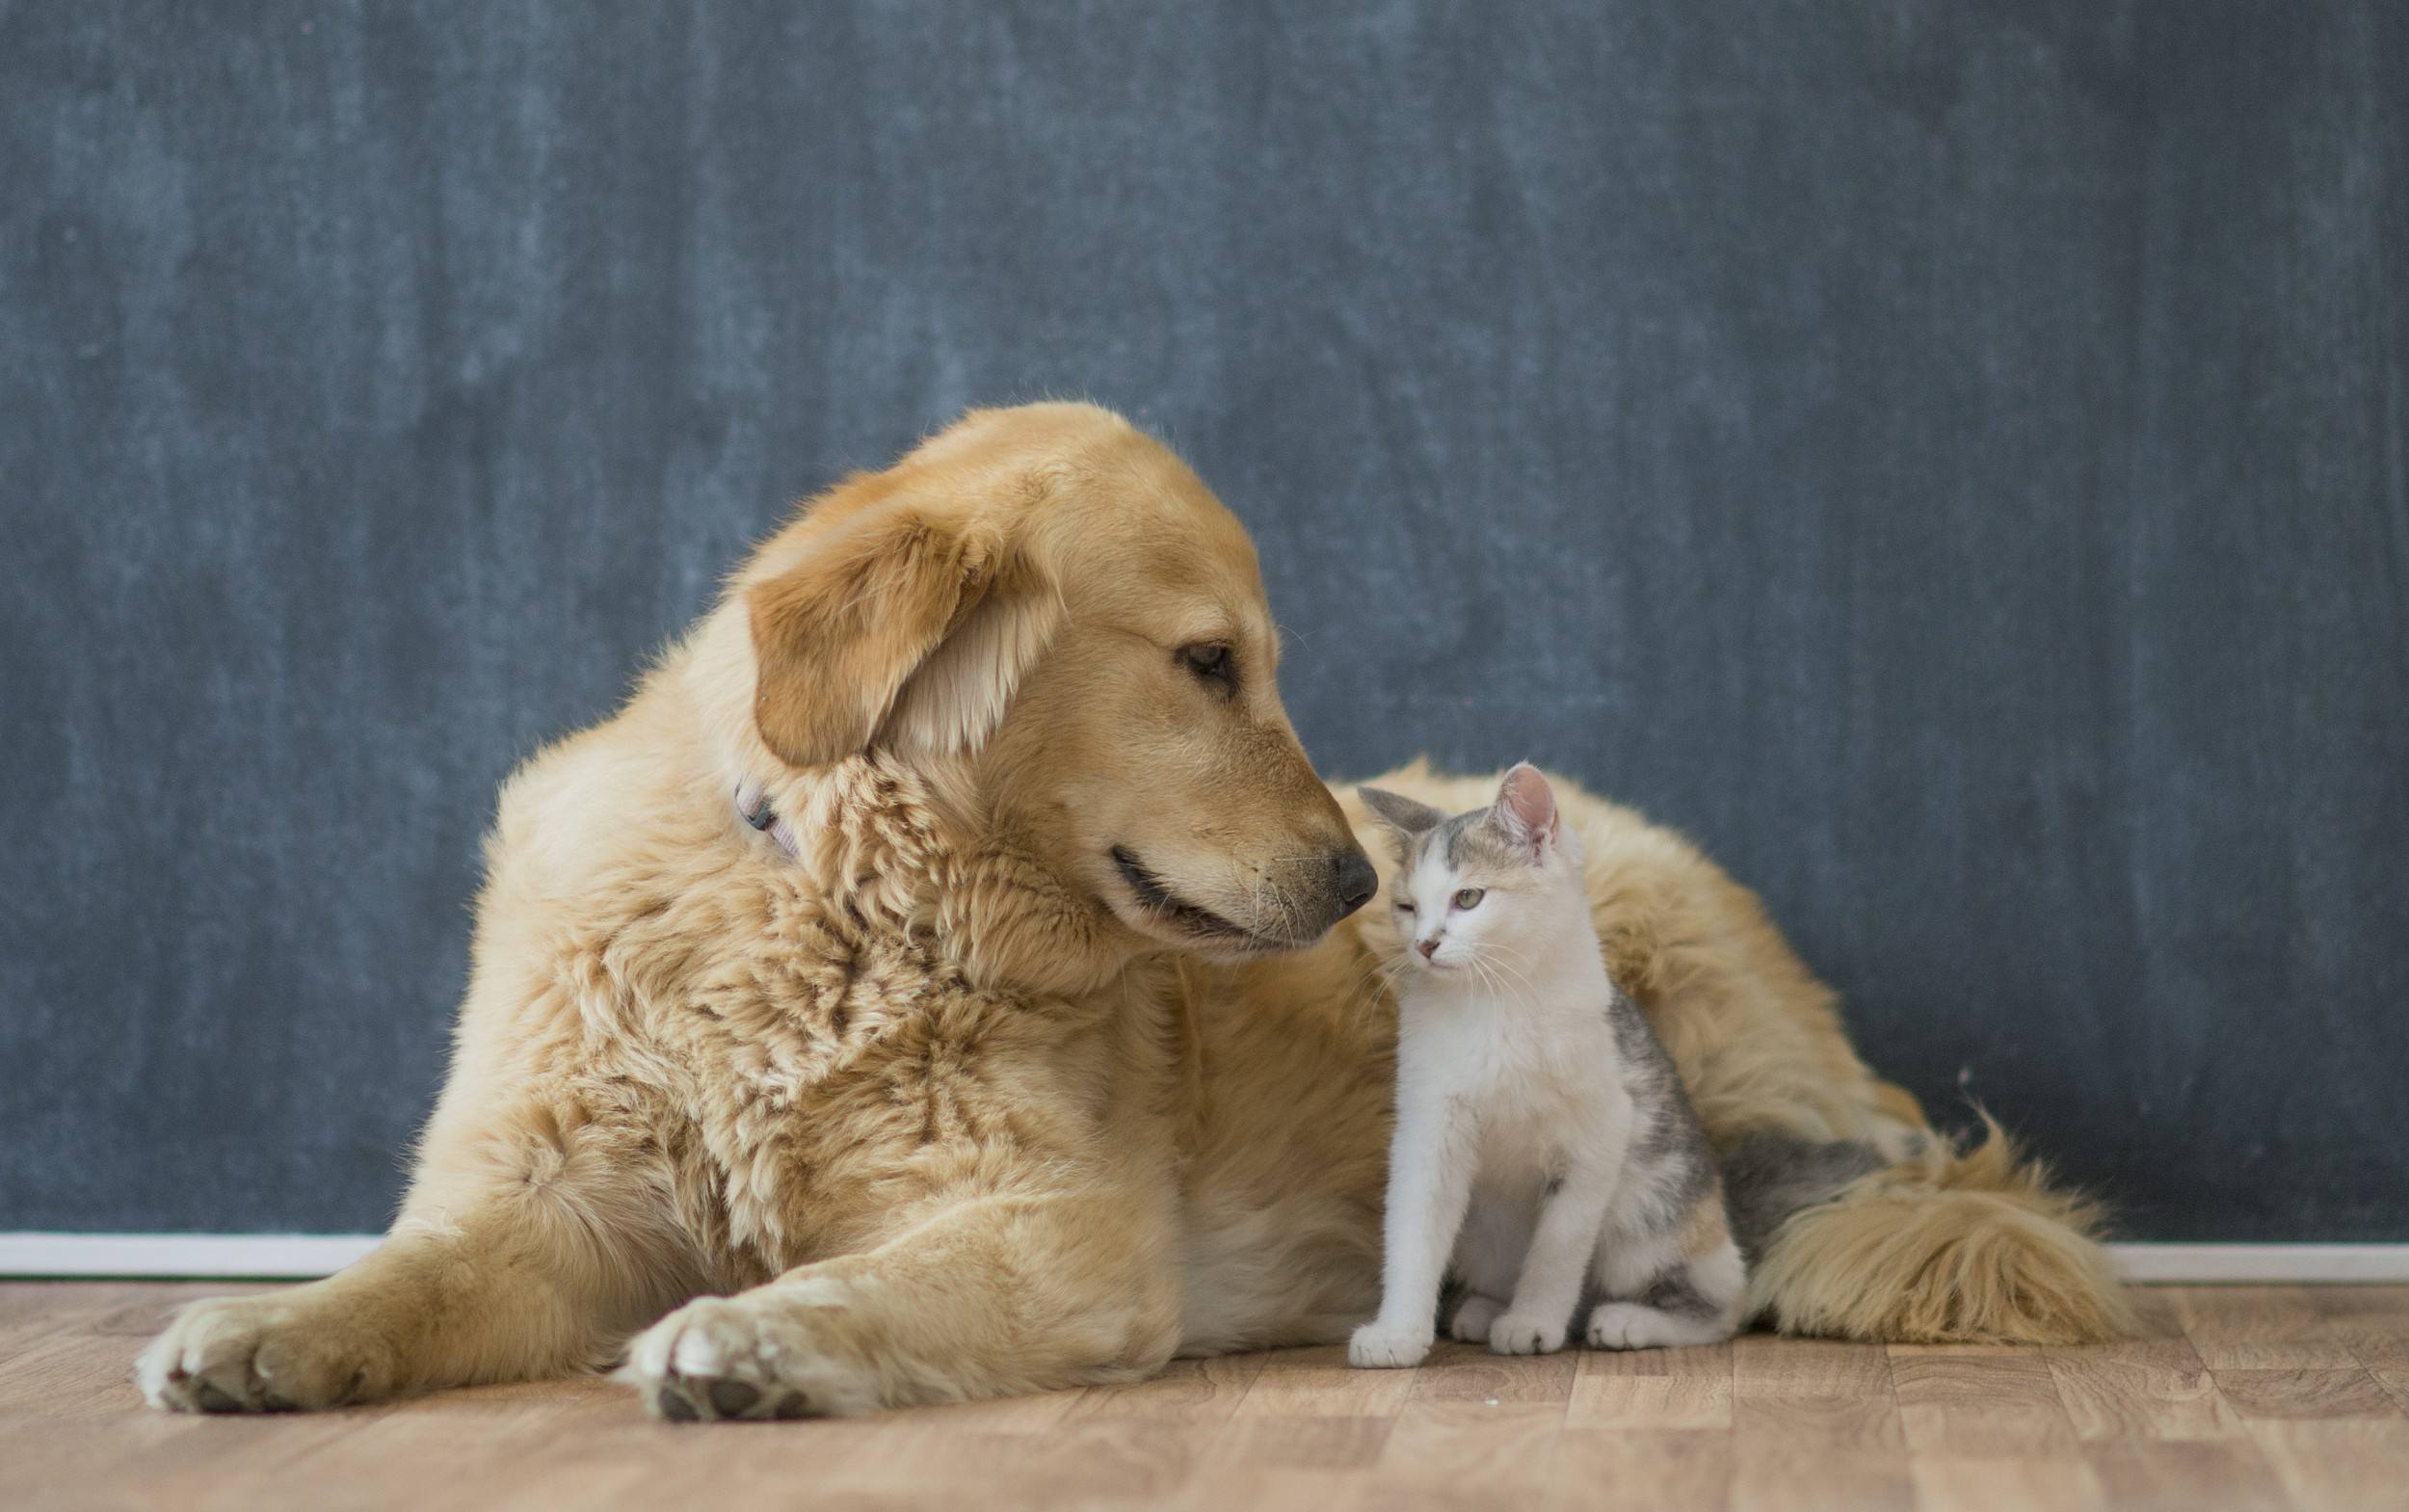cat: (1357, 761, 1745, 1369)
